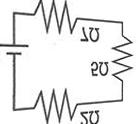Battery: (0, 39, 38, 59)
